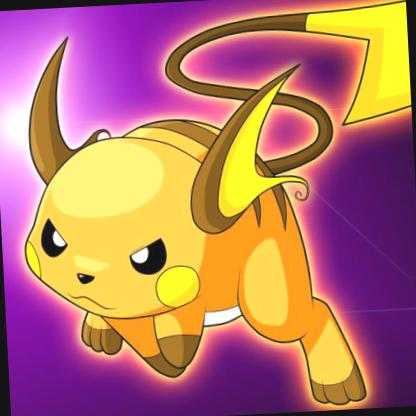Raichu: (0, 53, 415, 415)
